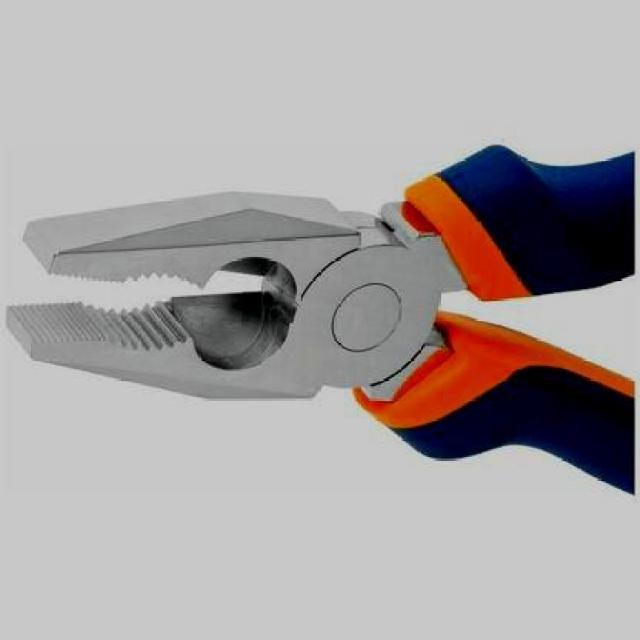pliers: (9, 132, 638, 500)
